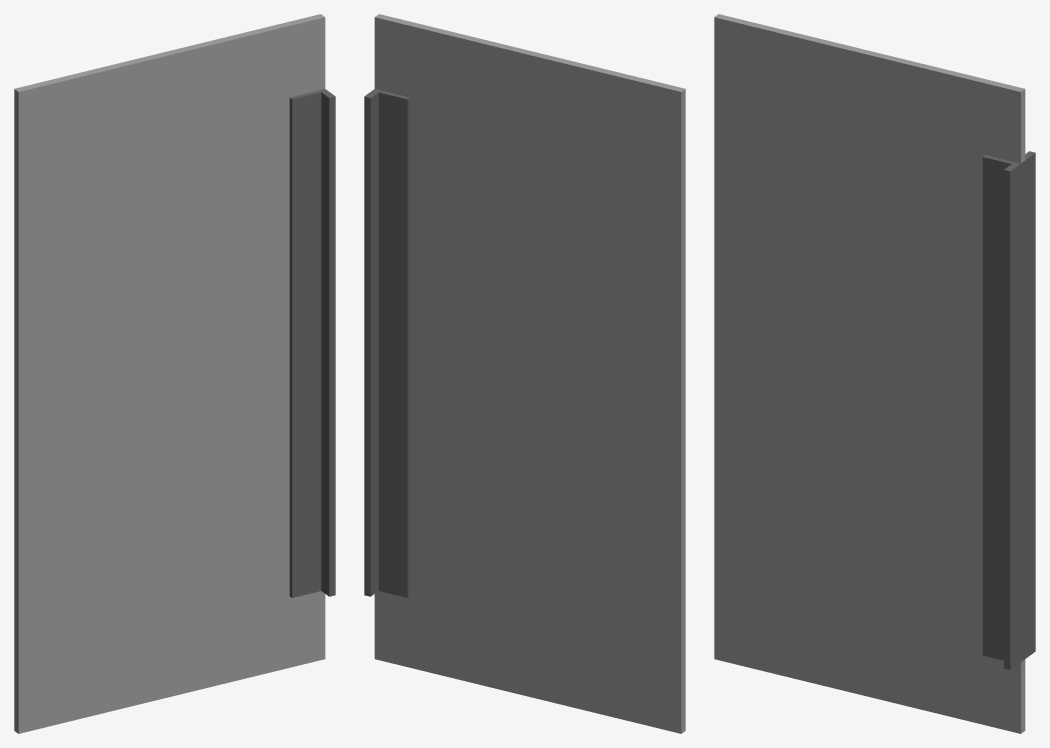
File: Int_RestroomPartition01_2.fbx
3 renders of one model, left to right at view 1: azimuth 30°, elevation 25°; view 2: azimuth 150°, elevation 25°; view 3: azimuth 330°, elevation 25°, orthographic.
Visible parts, largest first — view 1: Int_RestroomPartition01_2; view 2: Int_RestroomPartition01_2; view 3: Int_RestroomPartition01_2.
Part boxes in pixels (<box>): Int_RestroomPartition01_2: <box>14,14,335,733</box>; Int_RestroomPartition01_2: <box>364,14,685,733</box>; Int_RestroomPartition01_2: <box>714,14,1035,733</box>.
Size of what is drawn, in the model's own units: 100 by 14.41 by 200.
